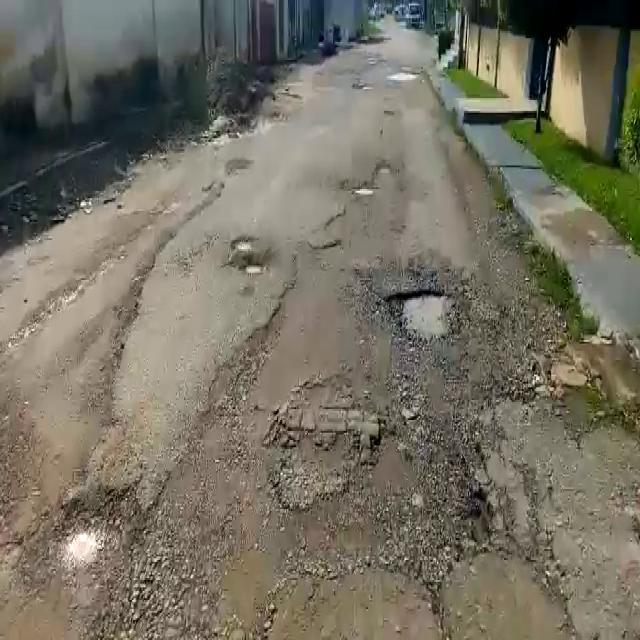pothole: (383, 286, 456, 346), (230, 237, 252, 252), (243, 263, 263, 278), (353, 185, 375, 198), (376, 164, 390, 177)
